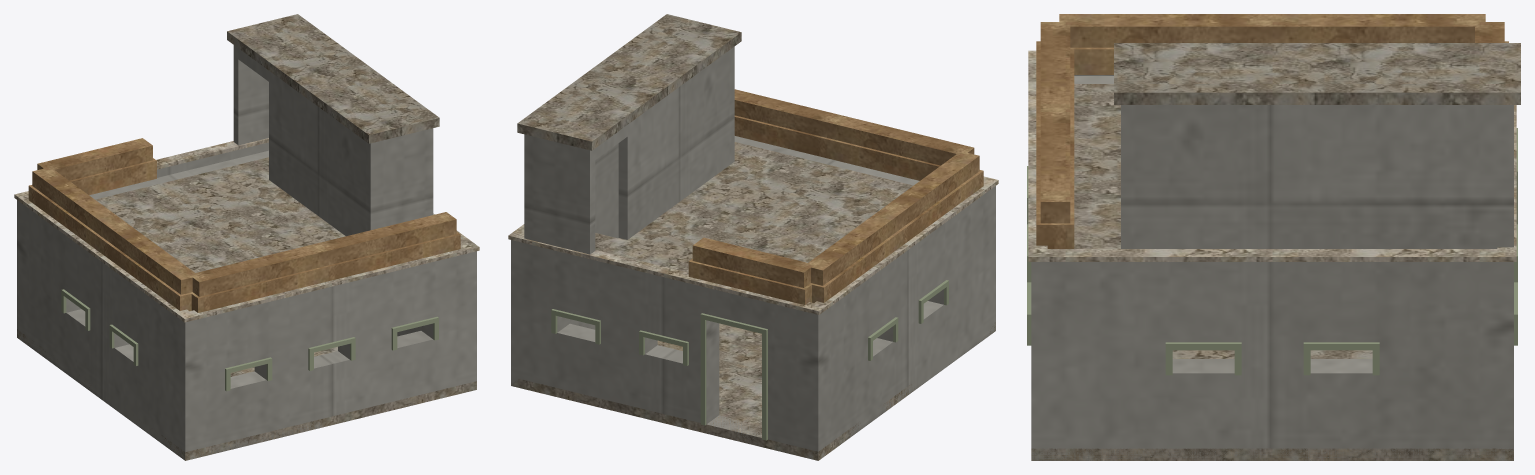
Rendered from mb-pillbox.garrison-v1.lod1.glb.
3 views of the same model, side by side, from view 1: azimuth 30°, elevation 25°; view 2: azimuth 150°, elevation 25°; view 3: azimuth 270°, elevation 25° (orthographic). The views are drawn at different scales.
Visible parts, largest first — view 1: mb-pillbox; view 2: mb-pillbox; view 3: mb-pillbox.
Part boxes in pixels (x1,y1,x2,y2): mb-pillbox: (14, 14, 479, 460); mb-pillbox: (508, 14, 998, 460); mb-pillbox: (1027, 14, 1520, 460).
Size of the model in its own units: 7.12 by 5.8 by 7.16.
4 materials, 3 textured.
